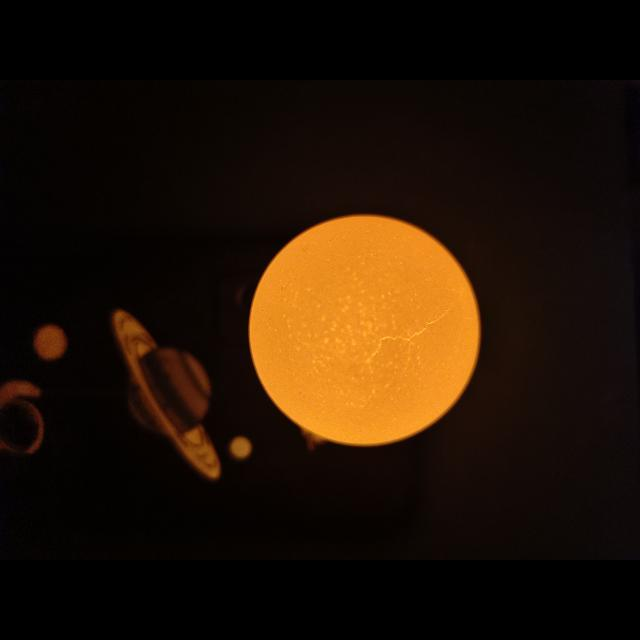AA - Premium: (249, 215, 480, 446)
